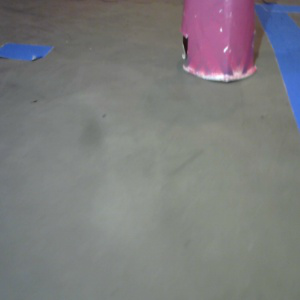right: (179, 1, 258, 82)
